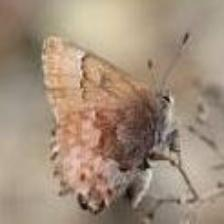butterfly: (42, 35, 174, 214)
